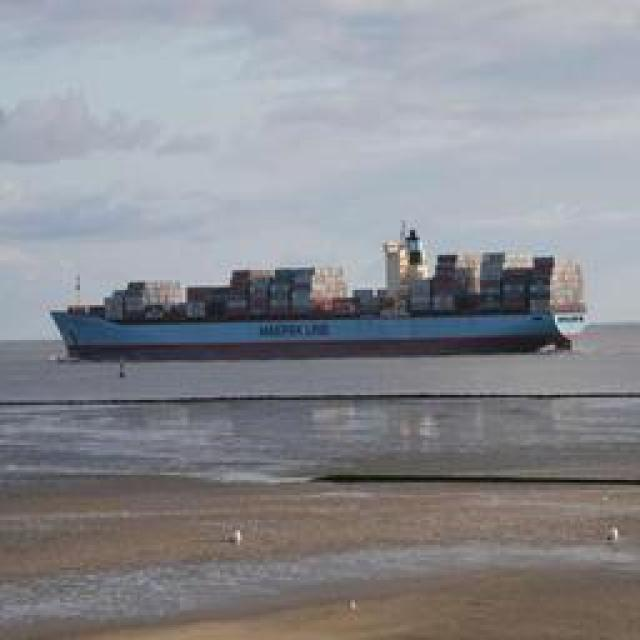CIV_Ship: (49, 246, 572, 356)
